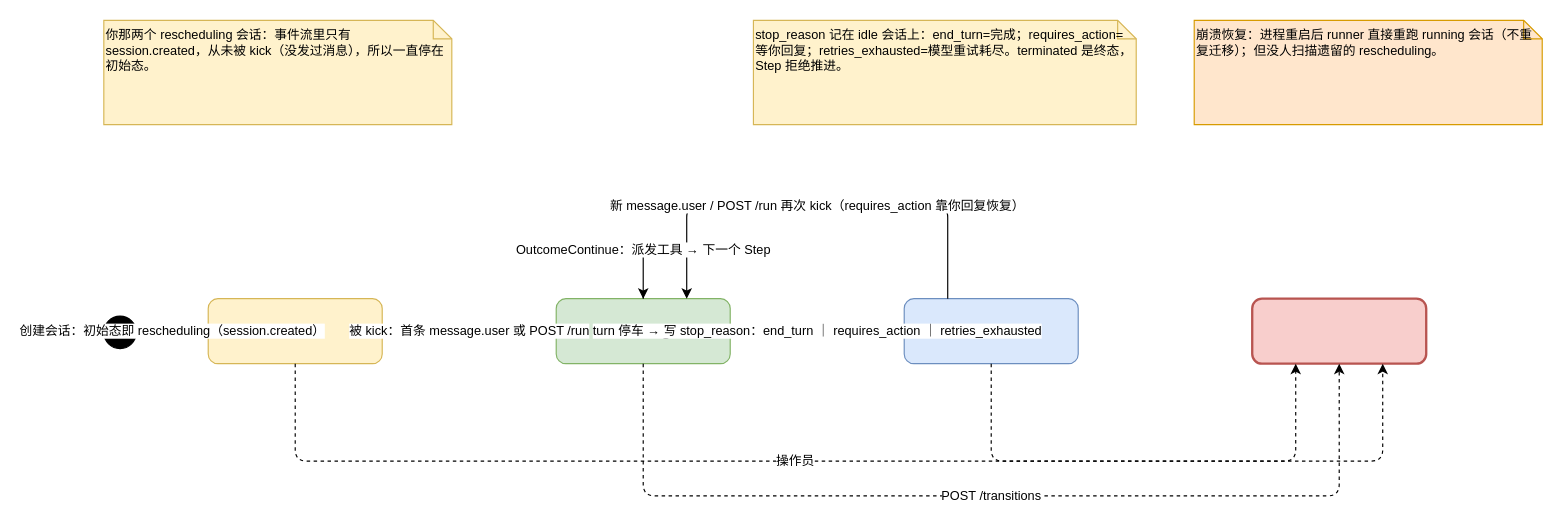
Image size: 1563x525. Some labels were removed from this diagram. The shapes that lost their labels are listed below. From the top down, each one's centre as x and y in pixels, then its label:
the point at 294,331: rescheduling
the point at 1338,330: terminated
